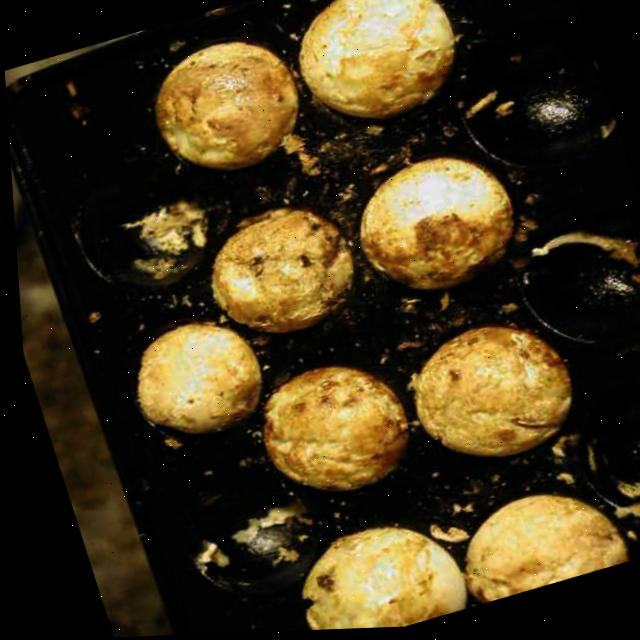炸货点心: (106, 0, 635, 637)
